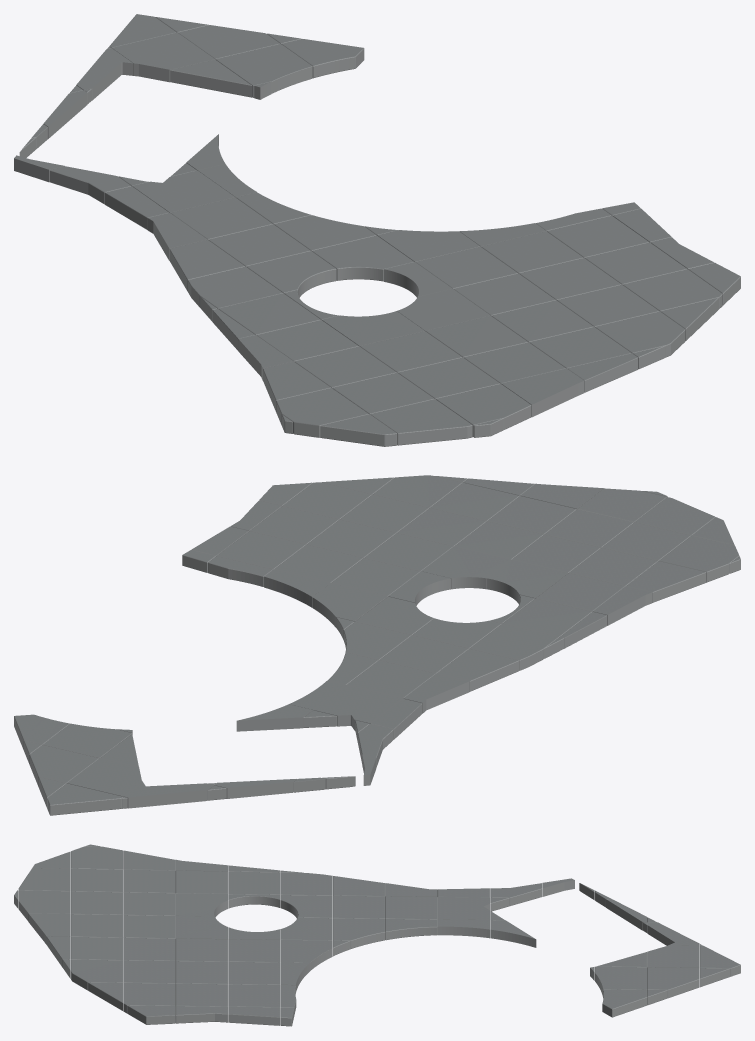
The model's file is hachiko_palegray_platform_v004_OPTIMIZED_DISABLED-s4ipgCCL.glb.
3 renders of one model, top to bottom at view 1: azimuth 30°, elevation 25°; view 2: azimuth 150°, elevation 25°; view 3: azimuth 270°, elevation 25°, orthographic. The views are drawn at different scales.
Parts seen in each view (by area): view 1: platform_masonry_v004_CANDIDATE_DISABLED; view 2: platform_masonry_v004_CANDIDATE_DISABLED; view 3: platform_masonry_v004_CANDIDATE_DISABLED.
Boxes of the visible parts, x1,y1,x2,y2 form: platform_masonry_v004_CANDIDATE_DISABLED: [14, 14, 740, 446]; platform_masonry_v004_CANDIDATE_DISABLED: [14, 475, 740, 815]; platform_masonry_v004_CANDIDATE_DISABLED: [14, 844, 740, 1026].
Bounding box in the file's own units: 10.59 × 0.6105 × 19.42.
Materials: 2 (1 with a texture image).
